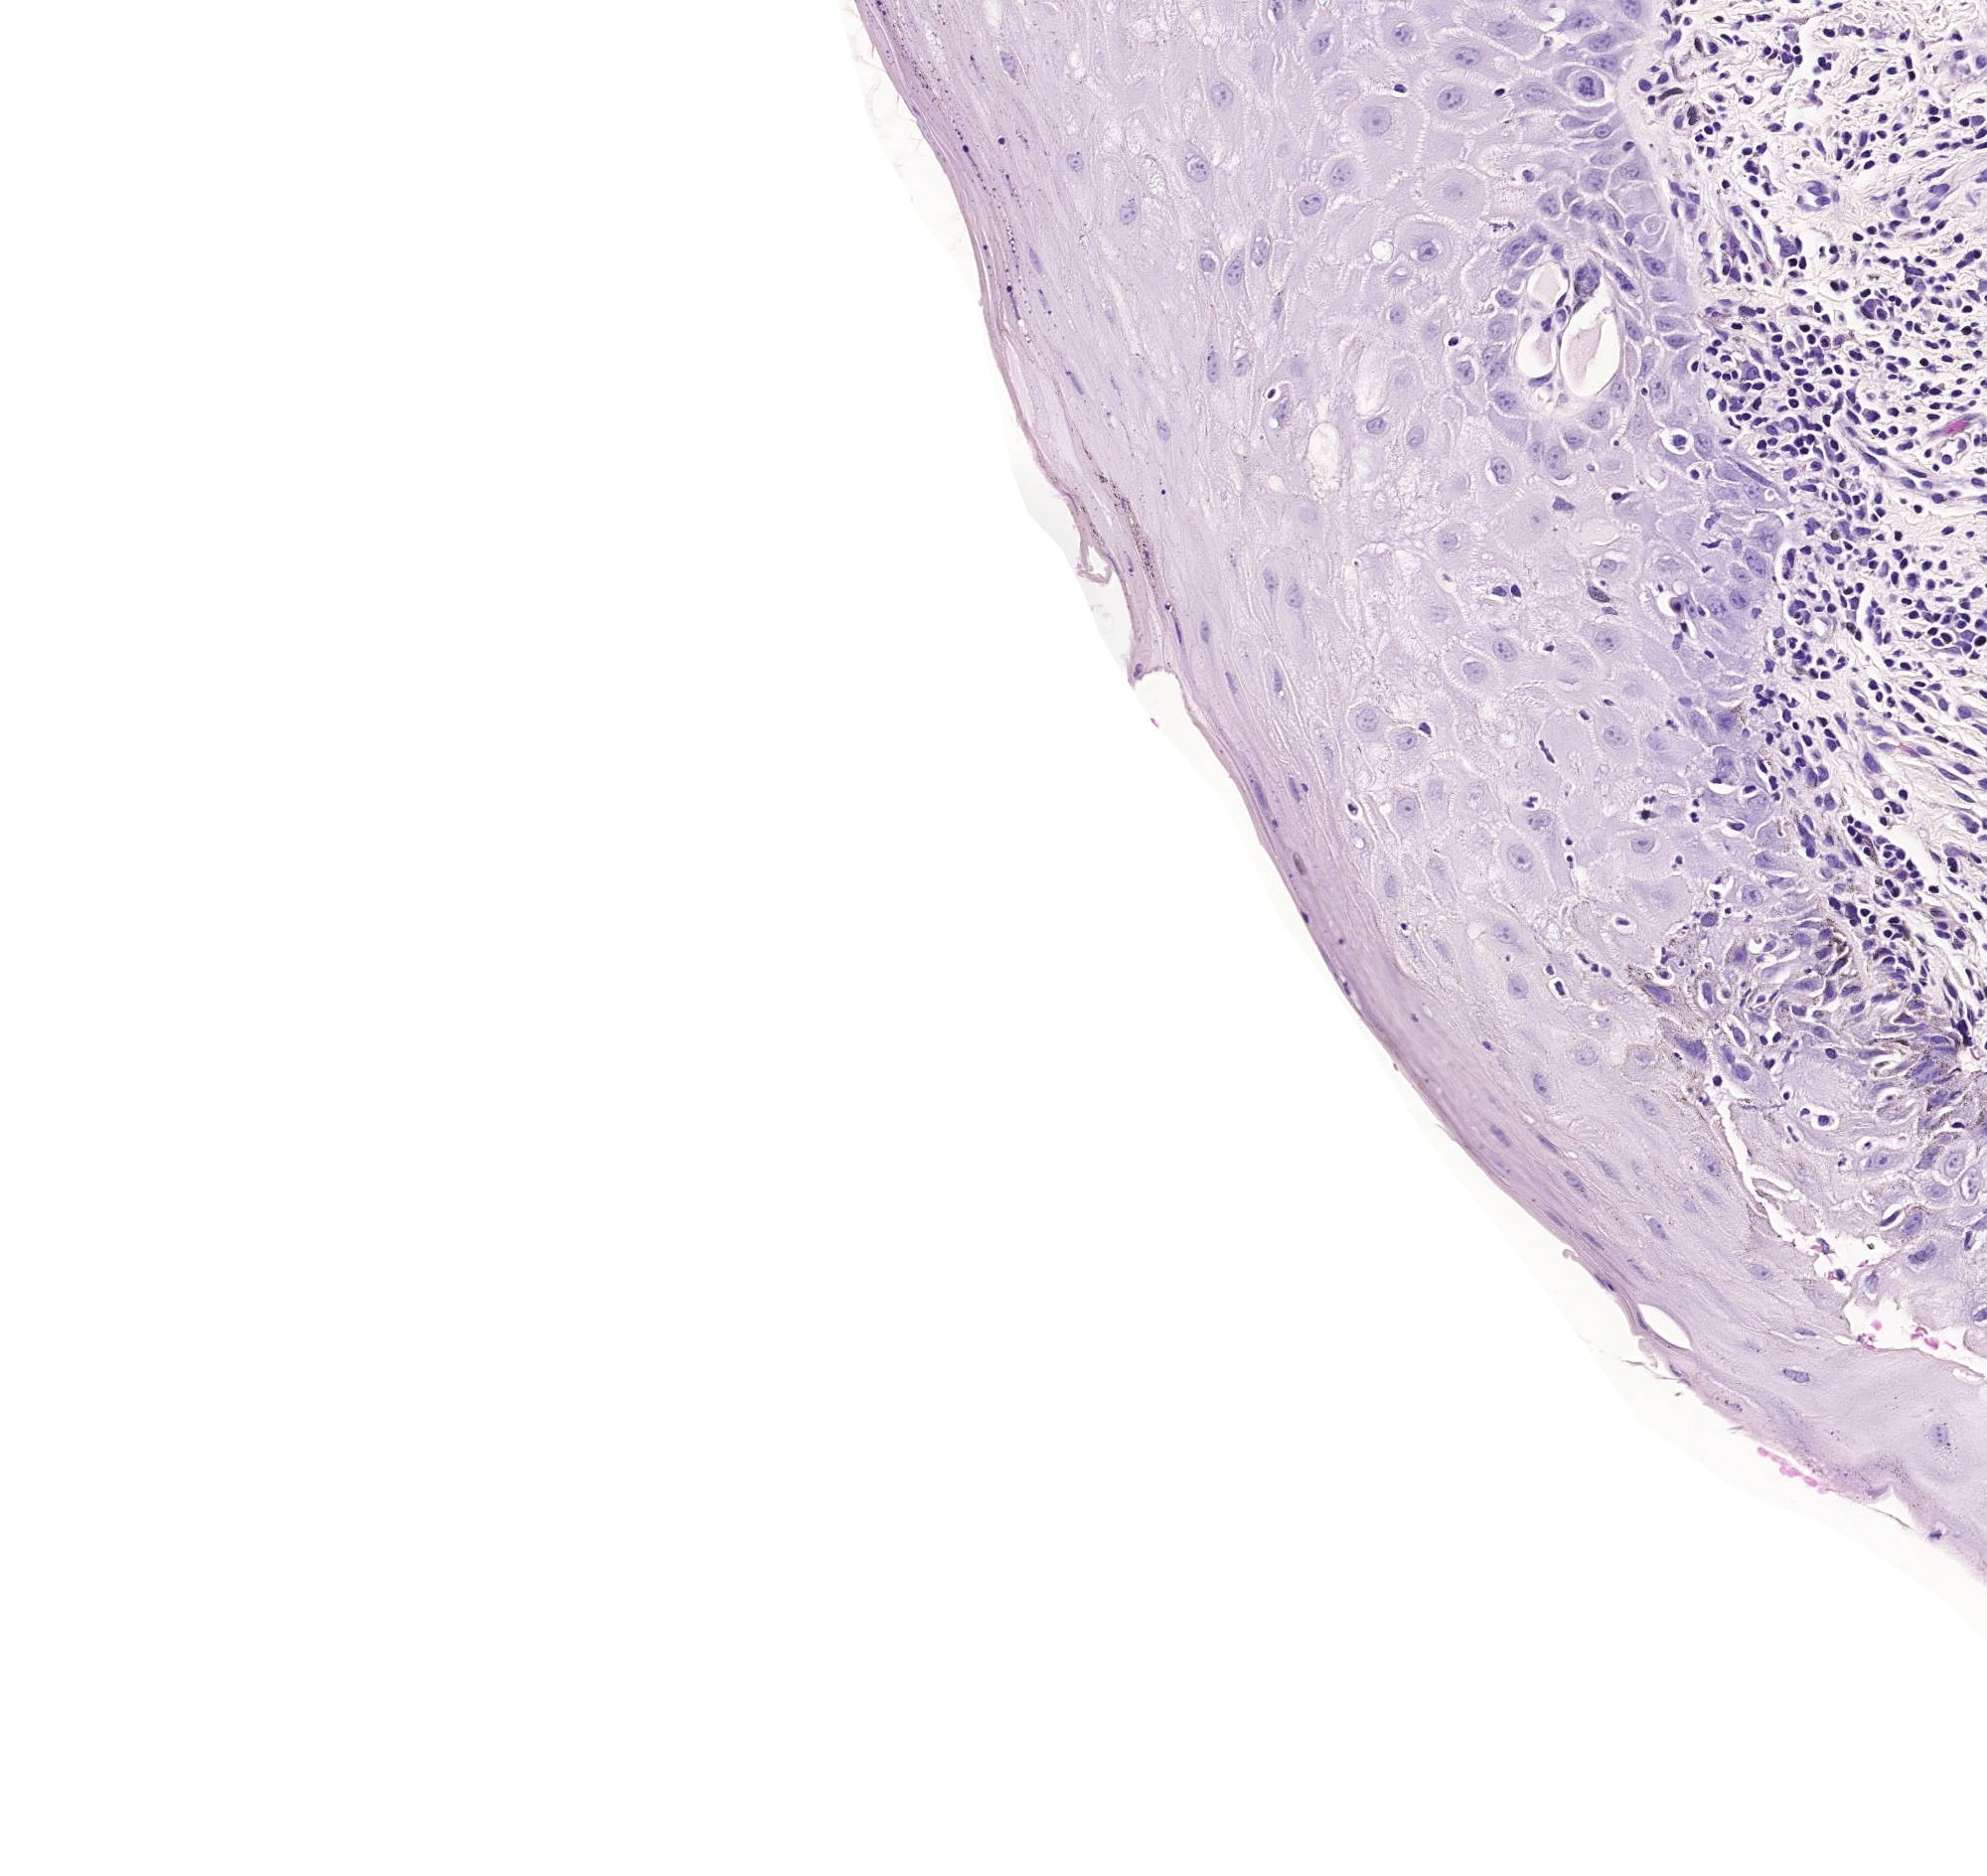epithelial: (1462, 51, 1470, 60), (1502, 398, 1513, 406), (1400, 30, 1409, 37), (1576, 19, 1585, 26), (1532, 90, 1539, 99), (1500, 647, 1509, 654), (1583, 1053, 1590, 1061), (1604, 1017, 1613, 1024), (1723, 763, 1730, 772), (1751, 894, 1758, 901), (1696, 723, 1703, 730), (1606, 638, 1613, 645), (1372, 116, 1380, 122), (1449, 190, 1458, 196), (1425, 247, 1430, 256), (1462, 368, 1467, 377), (1594, 413, 1603, 418), (1500, 927, 1509, 933), (1804, 982, 1812, 987), (1763, 536, 1772, 541), (1659, 384, 1664, 393), (1622, 277, 1627, 286), (1218, 90, 1224, 97), (1317, 41, 1324, 46), (1514, 243, 1522, 249), (1537, 233, 1544, 238), (1555, 249, 1560, 256), (1395, 312, 1402, 317), (1504, 296, 1511, 301), (1553, 457, 1559, 464), (1571, 435, 1578, 441), (1268, 578, 1275, 584), (1365, 718, 1370, 725), (1518, 857, 1523, 864), (1537, 818, 1544, 823), (1516, 984, 1522, 991), (1934, 1188, 1941, 1194), (1929, 1151, 1934, 1158), (1763, 857, 1770, 862), (1631, 326, 1636, 333), (1447, 97, 1456, 100), (1708, 1160, 1712, 1169), (1724, 473, 1733, 476), (1195, 167, 1201, 173), (1629, 169, 1634, 175), (1546, 199, 1552, 205), (1310, 199, 1315, 205), (1261, 249, 1266, 254), (1241, 363, 1247, 368), (1500, 467, 1506, 473), (1640, 1053, 1645, 1058), (1648, 1105, 1654, 1111), (1654, 1225, 1659, 1231), (1756, 1268, 1761, 1273), (1938, 1432, 1943, 1437), (1798, 936, 1804, 942), (1735, 596, 1740, 601), (1756, 561, 1761, 566), (1617, 390, 1622, 395), (1162, 427, 1167, 432), (1074, 160, 1077, 167), (1340, 171, 1347, 175), (1629, 5, 1633, 12), (1601, 60, 1608, 63), (1596, 175, 1603, 178), (1276, 679, 1280, 686), (1405, 739, 1412, 742), (1936, 1037, 1943, 1040), (1842, 989, 1849, 993), (1715, 605, 1719, 612), (1273, 7, 1278, 11), (1499, 25, 1502, 30), (1597, 41, 1603, 44), (1601, 130, 1606, 134), (1613, 217, 1619, 220), (1529, 256, 1534, 259), (1231, 270, 1236, 273), (1497, 367, 1500, 372), (1209, 365, 1215, 368), (1414, 434, 1418, 439), (1534, 448, 1539, 451), (1472, 670, 1477, 674), (1291, 594, 1296, 598), (1202, 628, 1206, 633), (1613, 733, 1617, 739), (1407, 806, 1410, 811), (1389, 883, 1393, 889), (1539, 1083, 1543, 1088), (1680, 1042, 1686, 1046), (1495, 1130, 1499, 1135), (1574, 1181, 1578, 1187), (1606, 1167, 1610, 1172), (1952, 1162, 1957, 1165), (1818, 1028, 1821, 1033), (1828, 989, 1832, 994), (1855, 1007, 1860, 1010), (1723, 721, 1728, 725), (1740, 575, 1745, 578), (1735, 543, 1738, 548), (1701, 441, 1705, 446), (1033, 259, 1037, 264), (1645, 361, 1647, 370), (1007, 60, 1010, 63), (1571, 122, 1578, 123), (1594, 212, 1597, 215), (1652, 263, 1656, 266), (1569, 194, 1573, 197), (1204, 261, 1208, 264), (1488, 351, 1492, 354), (1373, 427, 1380, 428), (1973, 1178, 1975, 1185), (1874, 996, 1878, 1000), (1640, 420, 1641, 427), (1661, 323, 1668, 324), (1074, 381, 1077, 384), (1606, 159, 1611, 160), (1821, 950, 1827, 952), (1825, 931, 1827, 936), (1604, 566, 1610, 568), (1673, 208, 1675, 213), (1574, 206, 1578, 208), (1497, 328, 1499, 331), (1276, 305, 1278, 309), (1544, 1143, 1548, 1144), (1553, 1217, 1555, 1220), (1590, 1238, 1594, 1239), (1802, 1329, 1805, 1331), (1936, 1097, 1938, 1100), (1918, 1068, 1920, 1072), (1816, 1012, 1820, 1014), (1837, 963, 1841, 964), (1686, 599, 1687, 603), (1606, 610, 1610, 612), (1751, 490, 1753, 494), (1708, 309, 1710, 310)
fibroblast and endothelial: (1673, 339, 1682, 344), (1895, 804, 1901, 811), (1640, 83, 1645, 88), (1851, 69, 1857, 74), (1879, 950, 1885, 956), (1828, 799, 1834, 804), (1858, 698, 1864, 703), (1908, 748, 1913, 753), (1964, 631, 1969, 636), (1924, 614, 1929, 619), (1948, 324, 1954, 330), (1809, 397, 1814, 402), (1772, 324, 1777, 330), (1931, 201, 1936, 206), (1666, 92, 1673, 95), (1936, 171, 1943, 175), (1962, 709, 1966, 716), (1825, 592, 1828, 599), (1844, 524, 1848, 531), (1696, 41, 1700, 46), (1980, 58, 1983, 63), (1812, 189, 1818, 192), (1820, 199, 1825, 203), (1959, 263, 1964, 266), (1756, 229, 1760, 234), (1869, 301, 1872, 307), (1562, 312, 1566, 317), (1901, 875, 1904, 880), (1805, 816, 1809, 822), (1839, 721, 1844, 725), (1945, 772, 1950, 776), (1962, 797, 1968, 800), (1961, 769, 1966, 772), (1767, 663, 1770, 668), (1941, 702, 1945, 707), (1962, 615, 1968, 619), (1945, 529, 1950, 532), (1733, 406, 1738, 409), (1754, 353, 1758, 358), (1751, 370, 1756, 374), (1954, 390, 1957, 395), (1770, 428, 1774, 434), (1961, 443, 1964, 448), (1867, 455, 1871, 460), (1807, 487, 1812, 490), (1858, 529, 1864, 532), (1671, 185, 1677, 189), (1678, 116, 1680, 125), (1663, 76, 1664, 83), (1849, 97, 1853, 100), (1693, 196, 1696, 199), (1865, 310, 1869, 314), (1879, 314, 1883, 317), (1566, 272, 1569, 275), (1560, 298, 1564, 301), (1888, 959, 1892, 963), (1941, 933, 1945, 936), (1934, 912, 1941, 913), (1901, 959, 1904, 963), (1934, 855, 1938, 859), (1786, 712, 1788, 719), (1922, 749, 1925, 753), (1955, 744, 1959, 748), (1887, 686, 1890, 689), (1968, 751, 1975, 753), (1809, 592, 1812, 596), (1862, 561, 1865, 564), (1950, 651, 1957, 652), (1962, 645, 1969, 647), (1835, 383, 1839, 386), (1945, 458, 1948, 462), (1876, 451, 1883, 453), (1906, 480, 1909, 483), (1936, 495, 1939, 499), (1844, 495, 1848, 499), (1754, 245, 1758, 249), (1864, 136, 1865, 143), (1969, 342, 1973, 346), (1913, 873, 1916, 876), (1881, 259, 1887, 261), (1797, 242, 1798, 247), (1701, 236, 1703, 242), (1821, 718, 1823, 723), (1779, 629, 1781, 635), (1835, 666, 1841, 668), (1811, 575, 1812, 580), (1842, 599, 1844, 605), (1721, 333, 1726, 335), (1932, 432, 1938, 434), (1915, 473, 1920, 474), (1976, 480, 1982, 481), (1969, 402, 1975, 404), (1976, 116, 1978, 122), (1664, 14, 1668, 16), (1774, 53, 1775, 56), (1872, 90, 1874, 93), (1872, 76, 1874, 79), (1962, 122, 1966, 123), (1848, 166, 1851, 167), (1883, 116, 1887, 118), (1818, 145, 1821, 146), (1899, 190, 1902, 192), (1929, 261, 1932, 263), (1737, 210, 1738, 213), (1867, 943, 1869, 947), (1879, 839, 1883, 841), (1962, 917, 1966, 919), (1941, 924, 1945, 926), (1950, 989, 1954, 991), (1915, 987, 1916, 991), (1952, 878, 1954, 882), (1805, 739, 1809, 741), (1828, 744, 1832, 746), (1936, 686, 1938, 689), (1818, 607, 1820, 610), (1795, 605, 1798, 607), (1853, 601, 1855, 605), (1871, 617, 1872, 621), (1828, 559, 1832, 561), (1871, 552, 1872, 555), (1916, 635, 1918, 638), (1975, 654, 1976, 658), (1920, 603, 1922, 607), (1756, 402, 1758, 406), (1756, 420, 1758, 423), (1797, 381, 1800, 383), (1849, 393, 1851, 397), (1857, 406, 1858, 409), (1927, 481, 1929, 485), (1835, 471, 1837, 474), (1816, 450, 1820, 451), (1823, 494, 1827, 495), (1834, 5, 1837, 7), (1878, 49, 1881, 51), (1890, 298, 1894, 300), (1883, 291, 1887, 293), (1971, 830, 1975, 832), (1858, 823, 1860, 827), (1857, 837, 1858, 841), (1887, 846, 1890, 848), (1899, 855, 1902, 857), (1918, 882, 1920, 885), (1767, 49, 1768, 51), (1934, 111, 1936, 113), (1895, 127, 1897, 129), (1971, 293, 1973, 294), (1827, 732, 1828, 733), (1918, 716, 1920, 718), (1874, 603, 1876, 605), (1715, 314, 1717, 316), (1959, 381, 1961, 383), (1802, 418, 1804, 420), (1902, 446, 1904, 448), (1744, 222, 1745, 224), (1901, 136, 1902, 138), (1975, 859, 1976, 860)
inflammatory: (1918, 1252, 1929, 1261), (1657, 991, 1666, 998), (1694, 1046, 1701, 1053), (1583, 81, 1589, 90), (1594, 591, 1601, 596), (1707, 987, 1710, 998), (1749, 471, 1756, 476), (1710, 46, 1715, 51), (1733, 272, 1738, 277), (1737, 1033, 1742, 1038), (1867, 760, 1872, 765), (1675, 437, 1680, 443), (1790, 420, 1795, 425), (1788, 471, 1793, 476), (1782, 56, 1790, 60), (1892, 155, 1895, 162), (1557, 502, 1564, 506), (1682, 700, 1689, 703), (1904, 631, 1911, 635), (1760, 443, 1763, 450), (1899, 210, 1906, 213), (1673, 37, 1677, 42), (1715, 123, 1719, 129), (1938, 287, 1943, 291), (1529, 799, 1532, 804), (1793, 1375, 1798, 1379), (1740, 1070, 1744, 1076), (1726, 1054, 1731, 1058), (1821, 770, 1825, 776), (1820, 693, 1825, 696), (1888, 698, 1892, 703), (1830, 547, 1834, 552), (1745, 309, 1751, 312), (1904, 397, 1909, 400), (1812, 462, 1818, 465), (1786, 249, 1791, 252), (1781, 240, 1786, 243), (1745, 150, 1749, 153), (1888, 69, 1892, 72), (1966, 141, 1973, 143), (1892, 222, 1899, 224), (1908, 280, 1911, 284), (1647, 799, 1654, 800), (1733, 825, 1740, 827), (1604, 971, 1608, 975), (1738, 956, 1742, 959), (1904, 1017, 1908, 1021), (1876, 792, 1879, 795), (1793, 723, 1797, 726), (1786, 573, 1788, 580), (1911, 577, 1913, 584), (1929, 631, 1936, 633), (1871, 413, 1874, 416), (1770, 439, 1774, 443), (1851, 416, 1855, 420), (1892, 428, 1895, 432), (1790, 513, 1793, 517), (1691, 210, 1694, 213), (1696, 136, 1701, 138), (1761, 146, 1763, 152), (1772, 127, 1777, 129), (1797, 125, 1798, 130), (1939, 145, 1945, 146), (1876, 245, 1881, 247), (1765, 185, 1767, 190), (1913, 270, 1918, 272), (1797, 291, 1802, 293), (1825, 340, 1827, 346), (1853, 354, 1858, 356), (1546, 323, 1548, 328), (1849, 906, 1851, 912), (1677, 638, 1678, 644), (1899, 552, 1901, 557), (1733, 240, 1735, 245), (1760, 16, 1763, 18), (1726, 37, 1728, 41), (1798, 58, 1800, 62), (1745, 99, 1749, 100), (1719, 97, 1723, 99), (1911, 72, 1913, 76), (1957, 35, 1959, 39), (1881, 134, 1885, 136), (1869, 229, 1872, 231), (1924, 219, 1927, 220), (1969, 256, 1971, 259), (1793, 310, 1797, 312), (1735, 326, 1738, 328), (1643, 815, 1647, 816), (1640, 843, 1643, 845), (1663, 973, 1666, 975), (1708, 919, 1712, 920), (1959, 933, 1962, 934), (1811, 776, 1812, 779), (1677, 605, 1678, 608), (1754, 612, 1758, 614), (1904, 599, 1906, 603), (1976, 589, 1978, 592), (1964, 603, 1966, 607), (1710, 349, 1714, 351), (1909, 409, 1913, 411), (1839, 457, 1842, 458), (1678, 2, 1680, 4), (1717, 18, 1719, 19), (1939, 224, 1941, 226), (1957, 238, 1959, 240), (1747, 277, 1749, 279), (1883, 1160, 1885, 1162), (1770, 945, 1772, 947), (1952, 862, 1954, 864), (1918, 682, 1920, 684), (1913, 614, 1915, 615), (1726, 301, 1728, 303), (1841, 317, 1842, 319), (1827, 317, 1828, 319), (1911, 428, 1913, 430)
lymphocyte: (1828, 651, 1834, 658), (1957, 1123, 1962, 1128), (1797, 652, 1802, 658), (1902, 663, 1908, 668), (1964, 365, 1969, 370), (1753, 176, 1756, 182), (1790, 272, 1795, 275), (1835, 368, 1841, 372), (1615, 494, 1620, 497), (1425, 725, 1428, 730), (1592, 966, 1597, 970), (1828, 1051, 1834, 1054), (1761, 1037, 1765, 1042), (1901, 792, 1906, 795), (1682, 624, 1686, 629), (1830, 607, 1834, 612), (1934, 640, 1939, 644), (1855, 497, 1858, 502), (1495, 224, 1504, 226), (1828, 32, 1832, 35), (1867, 164, 1871, 167), (1832, 249, 1835, 252), (1627, 236, 1631, 240), (1714, 779, 1717, 783), (1548, 968, 1552, 971), (1673, 1053, 1677, 1056), (1867, 1143, 1871, 1146), (1715, 894, 1719, 897), (1745, 788, 1749, 792), (1798, 760, 1802, 763), (1939, 737, 1943, 741), (1871, 682, 1874, 686), (1700, 612, 1703, 615), (1657, 587, 1661, 591), (1823, 674, 1827, 677), (1820, 659, 1823, 663), (1924, 564, 1927, 568), (1941, 564, 1945, 568), (1723, 441, 1730, 443), (1797, 441, 1800, 444), (1767, 372, 1770, 376), (1890, 367, 1894, 370), (1934, 390, 1938, 393), (1894, 409, 1897, 413), (1934, 404, 1938, 407), (1902, 499, 1906, 502), (1980, 469, 1983, 473), (1527, 175, 1532, 176), (1821, 60, 1823, 65), (1839, 153, 1841, 159), (1976, 252, 1978, 257), (1802, 259, 1804, 264), (1827, 370, 1832, 372), (1451, 340, 1456, 342), (1620, 922, 1626, 924), (1559, 984, 1560, 989), (1797, 1010, 1802, 1012), (1834, 899, 1835, 904), (1895, 889, 1897, 894), (1772, 779, 1774, 785), (1694, 473, 1696, 478), (1774, 377, 1779, 379), (1945, 358, 1950, 360), (1931, 416, 1936, 418), (1918, 506, 1920, 511), (1700, 146, 1701, 152), (1864, 153, 1869, 155), (1398, 86, 1402, 88), (1497, 92, 1500, 93), (1627, 143, 1629, 146), (1749, 16, 1751, 19), (1786, 46, 1788, 49), (1707, 129, 1710, 130), (1754, 201, 1756, 205), (1763, 210, 1765, 213), (1966, 328, 1968, 331), (1834, 284, 1835, 287), (1818, 307, 1820, 310), (1804, 326, 1805, 330), (1811, 337, 1812, 340), (1924, 361, 1927, 363), (1514, 589, 1516, 592), (1548, 647, 1552, 649), (1544, 749, 1546, 753), (1581, 714, 1585, 716), (1670, 723, 1673, 725), (1351, 806, 1352, 809), (1694, 800, 1696, 804), (1485, 1044, 1488, 1046), (1717, 1079, 1719, 1083), (1821, 1120, 1825, 1121), (1770, 1061, 1772, 1065), (1761, 996, 1763, 1000), (1663, 959, 1664, 963), (1851, 922, 1855, 924), (1864, 912, 1867, 913), (1871, 917, 1872, 920), (1934, 889, 1936, 892), (1888, 882, 1890, 885), (1976, 913, 1978, 917), (1758, 686, 1760, 689), (1758, 695, 1760, 698), (1782, 695, 1784, 698), (1763, 702, 1765, 705), (1745, 732, 1747, 735), (1927, 728, 1931, 730), (1708, 652, 1710, 656), (1705, 568, 1708, 569), (1811, 672, 1812, 675), (1791, 644, 1793, 647), (1913, 689, 1915, 693), (1887, 635, 1888, 638), (1848, 545, 1849, 548), (1946, 636, 1948, 640), (1946, 619, 1948, 622), (1931, 584, 1932, 587), (1643, 390, 1645, 393), (1710, 393, 1714, 395), (1731, 423, 1735, 425), (1737, 416, 1740, 418), (1744, 416, 1747, 418), (1694, 363, 1696, 367), (1724, 376, 1728, 377), (1733, 372, 1735, 376), (1775, 339, 1779, 340), (1791, 390, 1793, 393), (1807, 386, 1811, 388), (1872, 344, 1876, 346), (1902, 361, 1906, 363), (1922, 386, 1925, 388), (1941, 340, 1945, 342), (1948, 342, 1950, 346), (1763, 455, 1767, 457), (1793, 451, 1795, 455), (1834, 443, 1835, 446), (1929, 451, 1931, 455), (1879, 511, 1883, 513), (1872, 517, 1876, 518), (1708, 522, 1710, 525), (1946, 580, 1950, 582), (1879, 349, 1881, 353), (1708, 150, 1710, 153), (1976, 99, 1980, 100), (1976, 351, 1978, 354), (1849, 818, 1851, 822), (1851, 829, 1853, 832), (1865, 850, 1867, 853), (1909, 864, 1911, 867), (1000, 141, 1003, 143), (1686, 19, 1687, 21), (1735, 37, 1737, 39), (1749, 79, 1751, 81), (1756, 169, 1758, 171), (1797, 166, 1798, 167), (1858, 32, 1860, 33), (1827, 65, 1828, 67), (1793, 263, 1795, 264), (1723, 245, 1724, 247), (1966, 307, 1968, 309), (1941, 317, 1943, 319), (1897, 300, 1899, 301), (1934, 301, 1936, 303), (1590, 465, 1592, 467), (1608, 702, 1610, 703), (1569, 841, 1571, 843), (1693, 815, 1694, 816), (1583, 957, 1585, 959), (1890, 1217, 1892, 1218), (1804, 1111, 1805, 1113), (1680, 963, 1682, 964), (1693, 971, 1694, 973), (1807, 970, 1809, 971), (1887, 933, 1888, 934), (1728, 910, 1730, 912), (1761, 767, 1763, 769), (1754, 711, 1756, 712), (1601, 582, 1603, 584), (1804, 645, 1805, 647), (1841, 659, 1842, 661), (1888, 661, 1890, 663), (1879, 612, 1881, 614), (1848, 591, 1849, 592), (1872, 564, 1874, 566), (1961, 622, 1962, 624), (1615, 443, 1617, 444), (1723, 404, 1724, 406), (1804, 450, 1805, 451), (1793, 402, 1795, 404), (1784, 365, 1786, 367), (1934, 346, 1936, 347), (1818, 427, 1820, 428), (1821, 395, 1823, 397), (1874, 430, 1876, 432), (1881, 434, 1883, 435), (1908, 444, 1909, 446), (1879, 536, 1881, 538), (1969, 532, 1971, 534), (1804, 152, 1805, 153), (1887, 853, 1888, 855)
